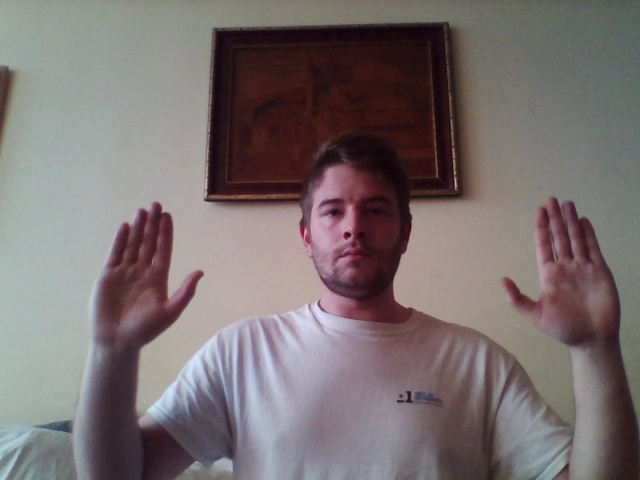prekrasno: (85, 193, 621, 352)
